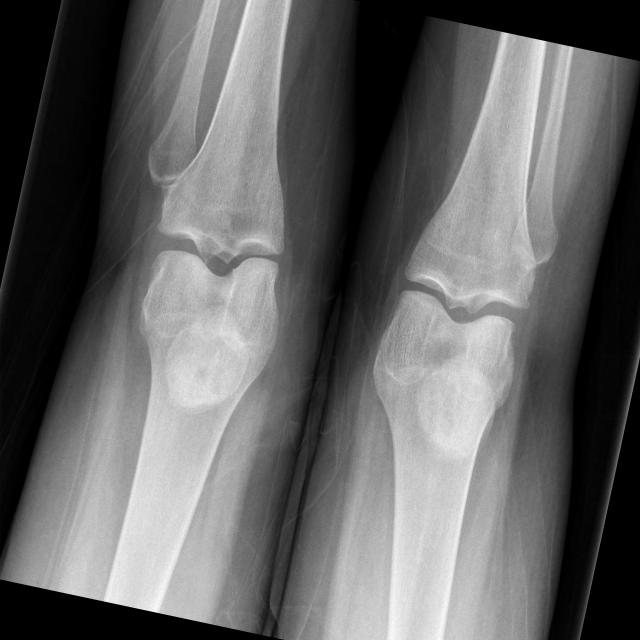Knee: (372, 214, 548, 402), (137, 167, 310, 340)
